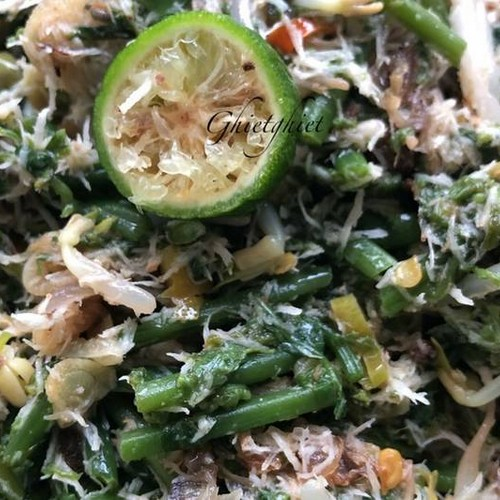jukut urap: (14, 15, 469, 481)
